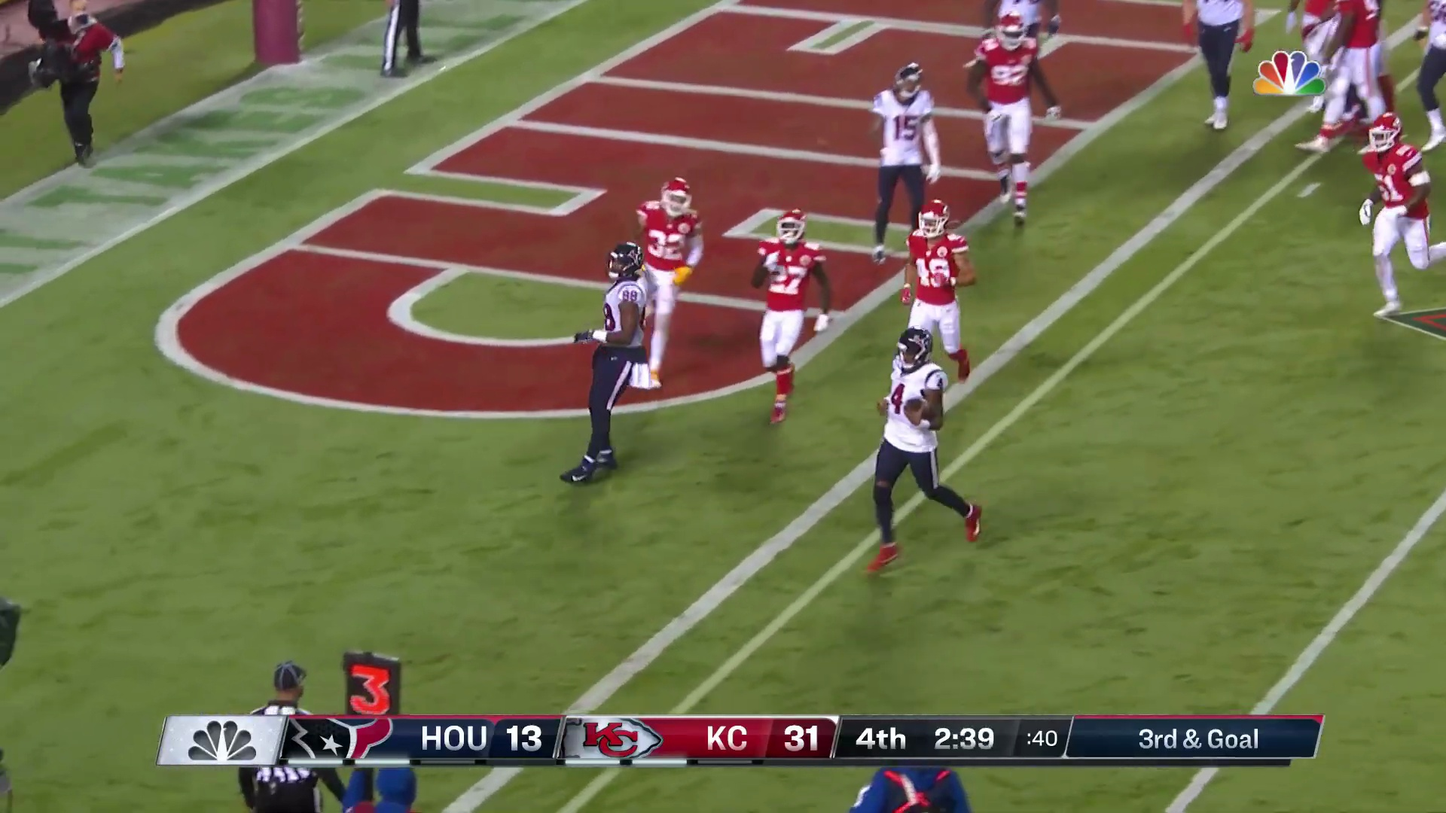Player: (872, 323, 945, 575), (971, 1, 1039, 223), (756, 208, 822, 424), (1361, 114, 1430, 312), (638, 179, 703, 382), (873, 62, 939, 258), (906, 202, 973, 381), (1322, 0, 1383, 132), (1417, 2, 1446, 148), (1298, 0, 1343, 61)
